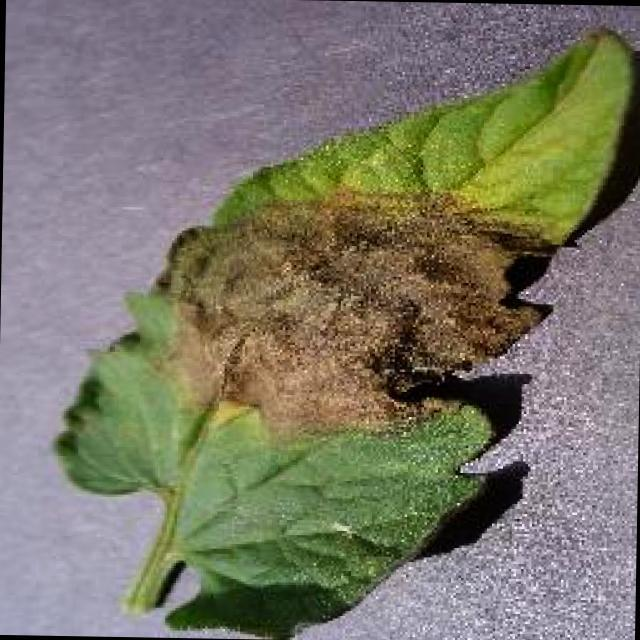Tomato late blight leaf: (48, 16, 632, 640)
